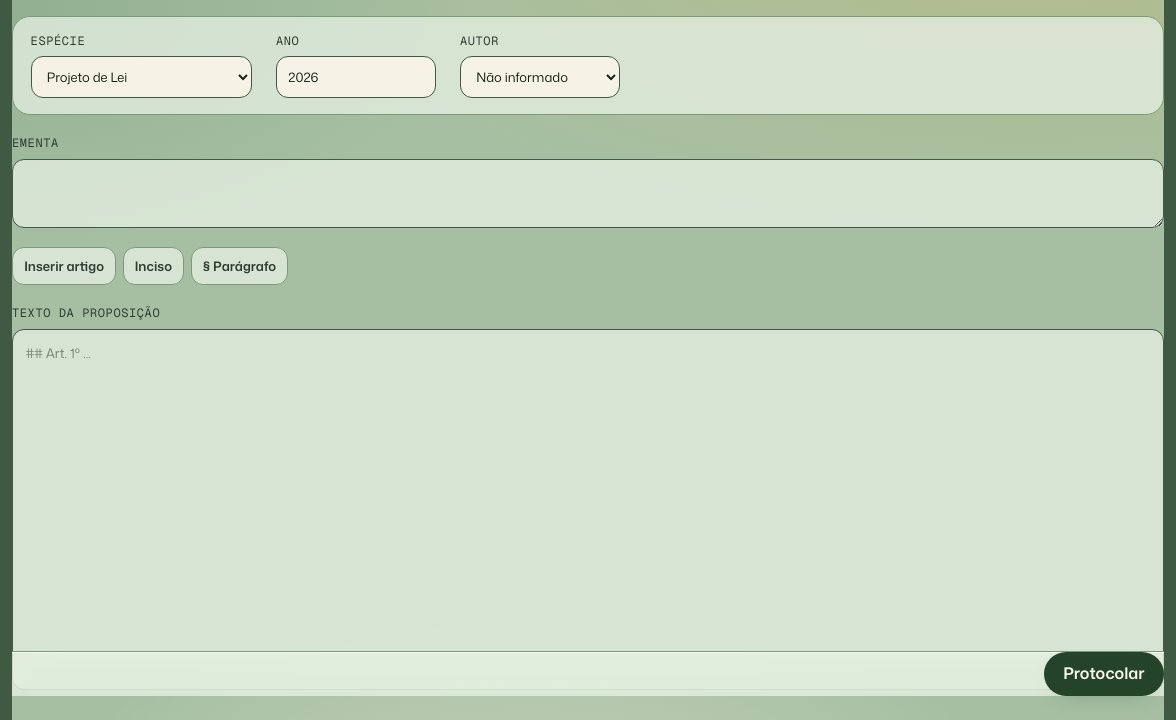
it: FormularioProposicao › mostra o campo condicional 'objeto da indicação' so' quando a especie e' indicacao
The image size is (1176, 720).
Expected: the field labelled "objeto da indicação" is not shown
Select "Indicação" in the dropdown labelled "Espécie": {"x": 141, "y": 77} [31,56,252,98]
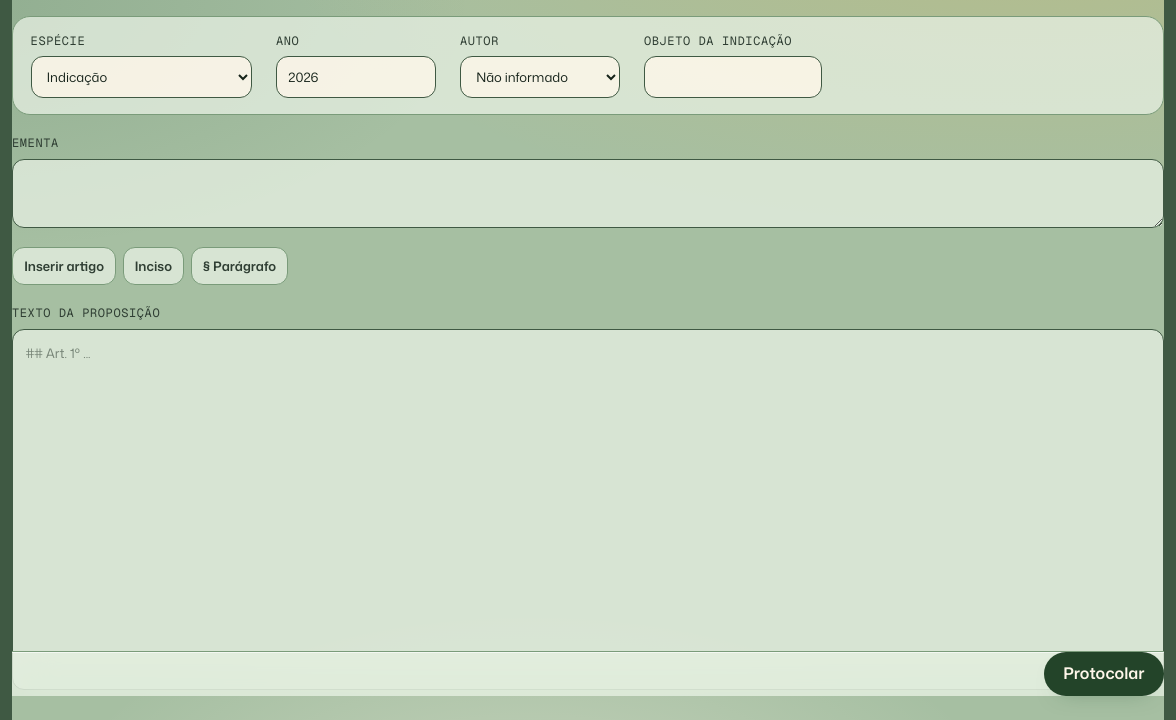
Result: the field labelled "Objeto da indicação" is shown at [644,56,822,98]
